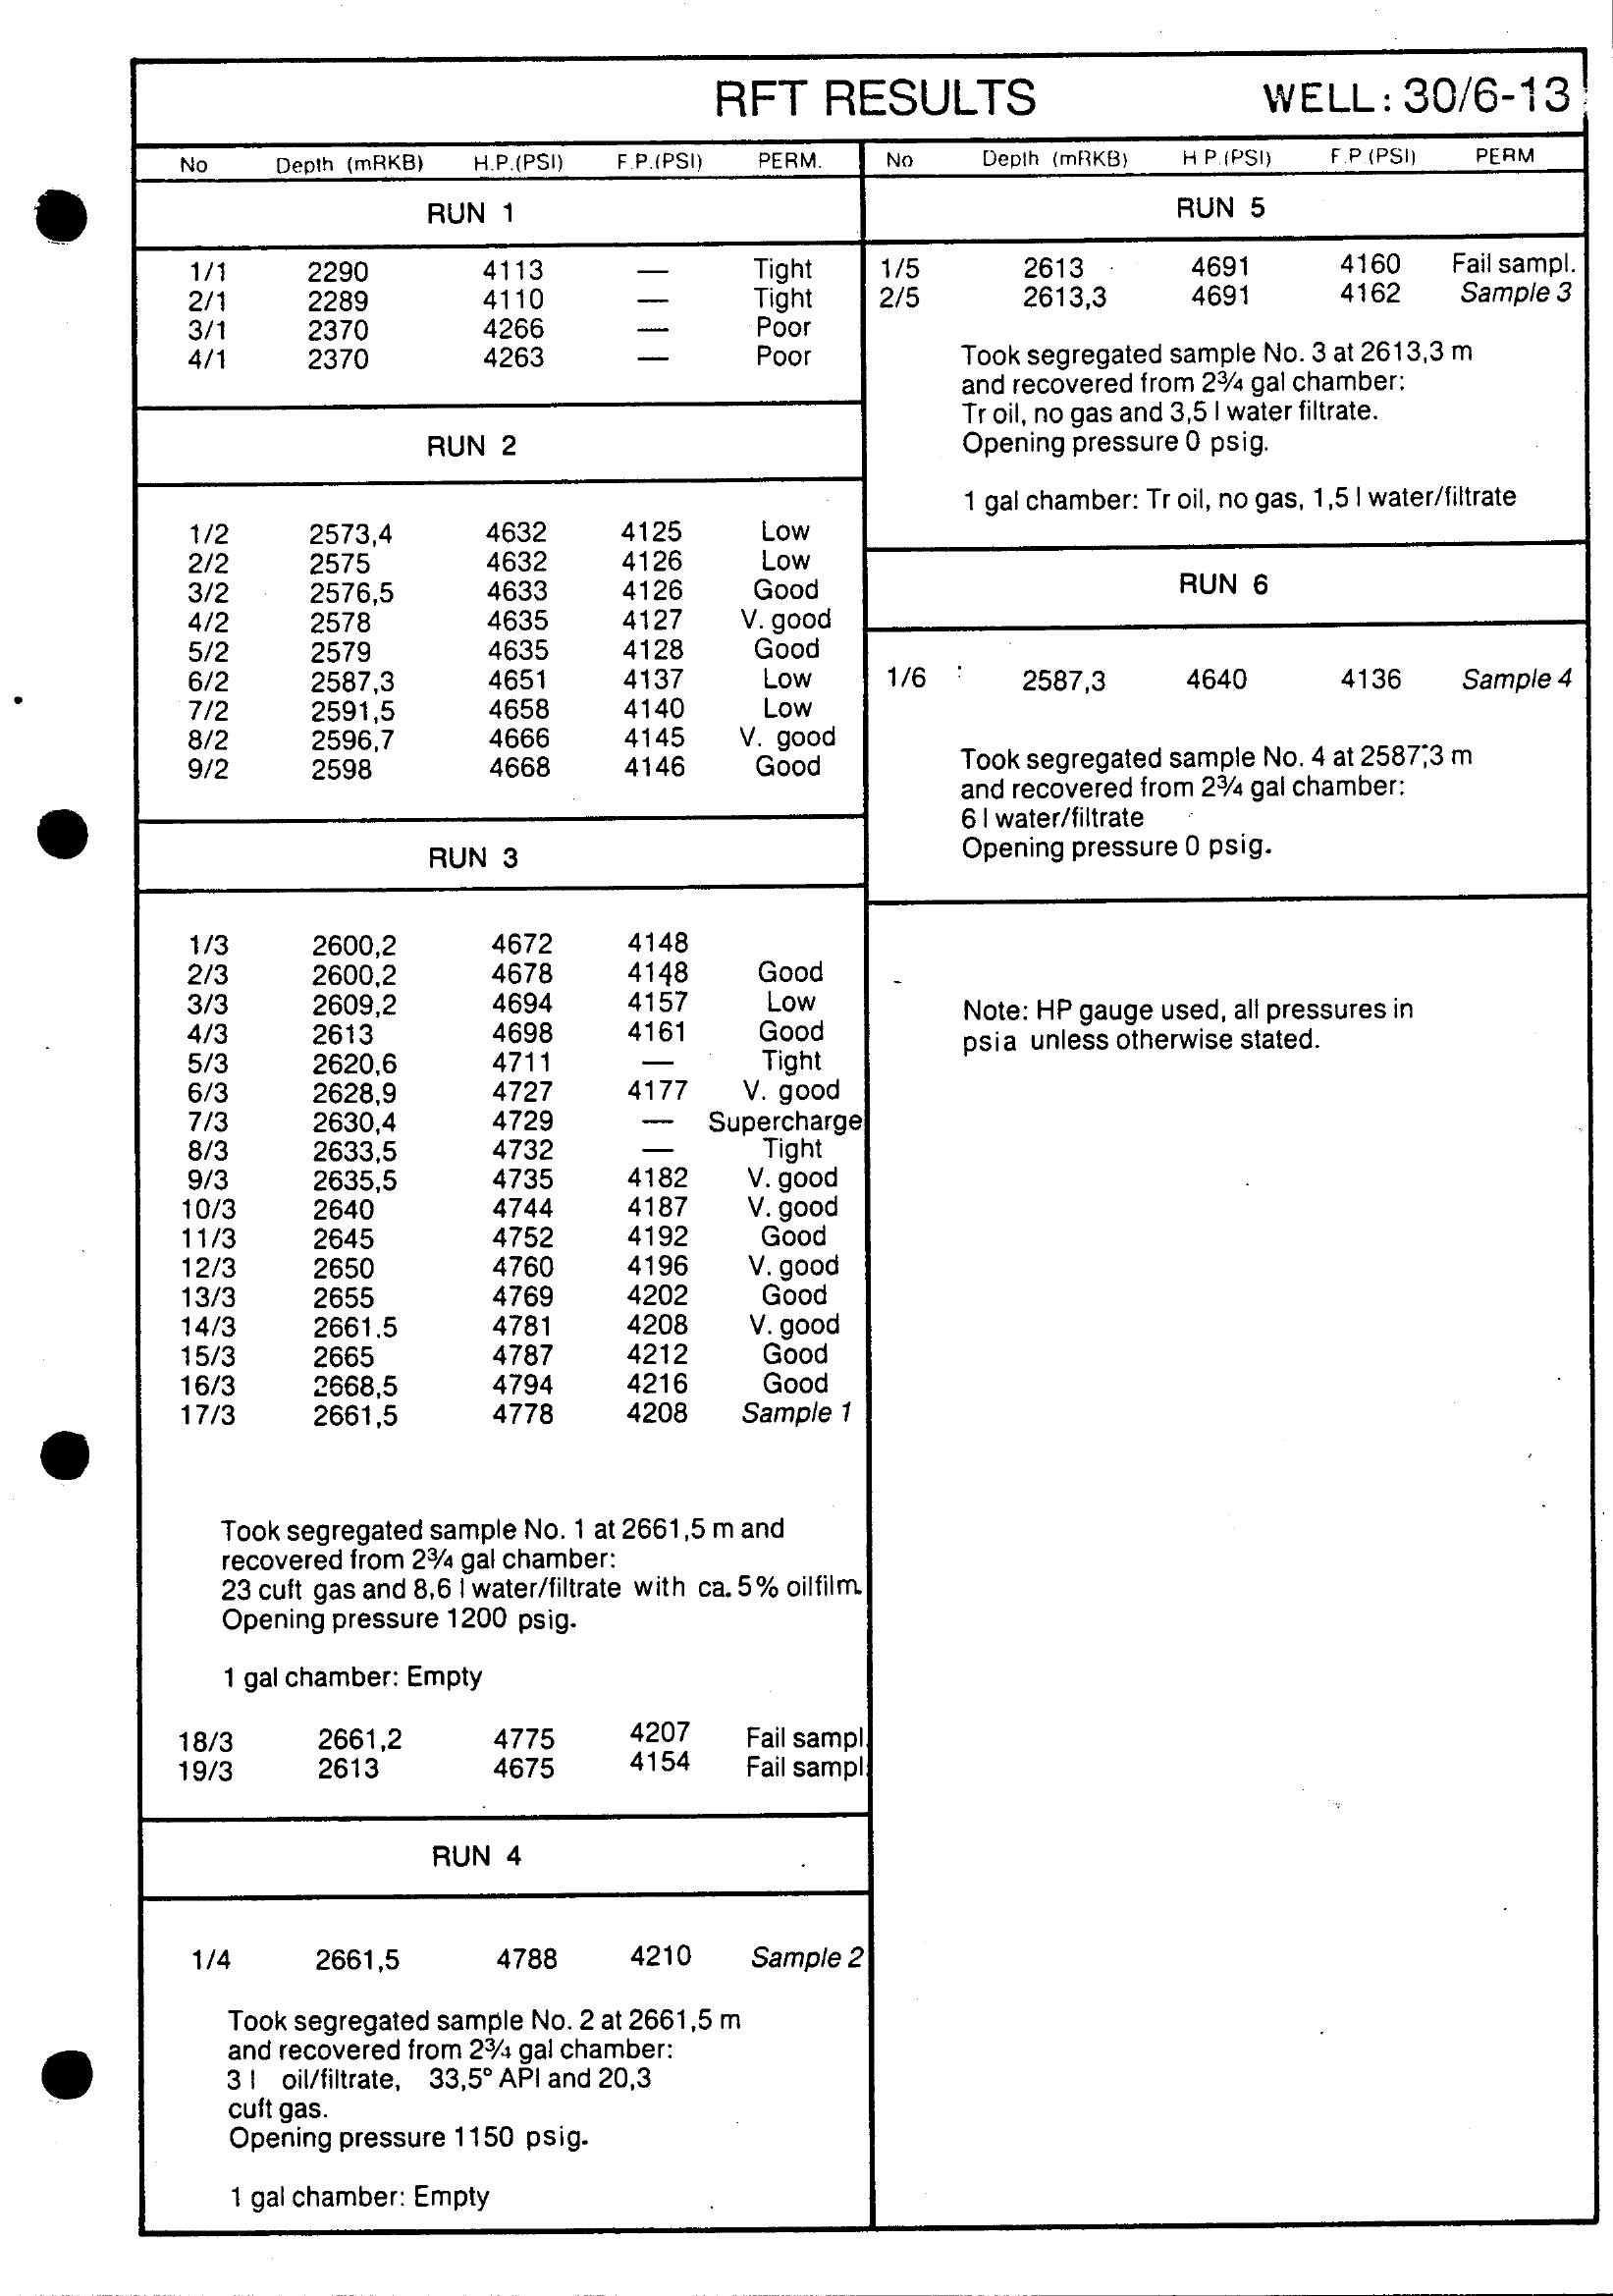table: (108, 141, 873, 2266), (864, 131, 1580, 534)
text: (697, 51, 1072, 136)
